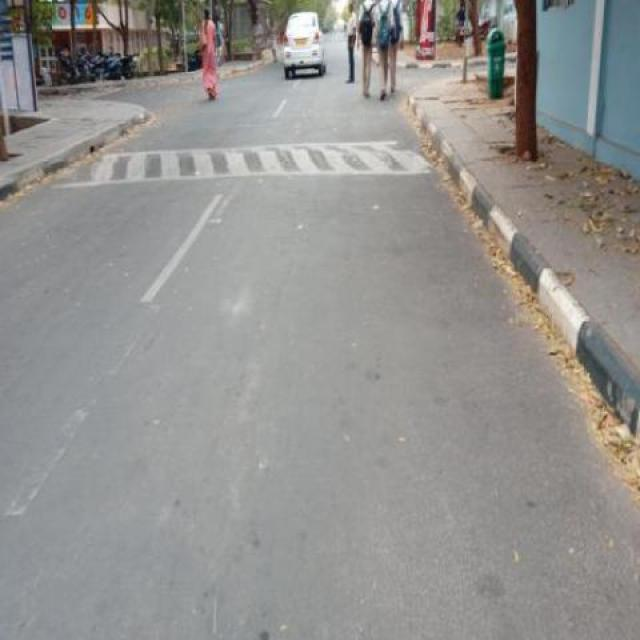Speed Bump: (60, 138, 431, 184)
